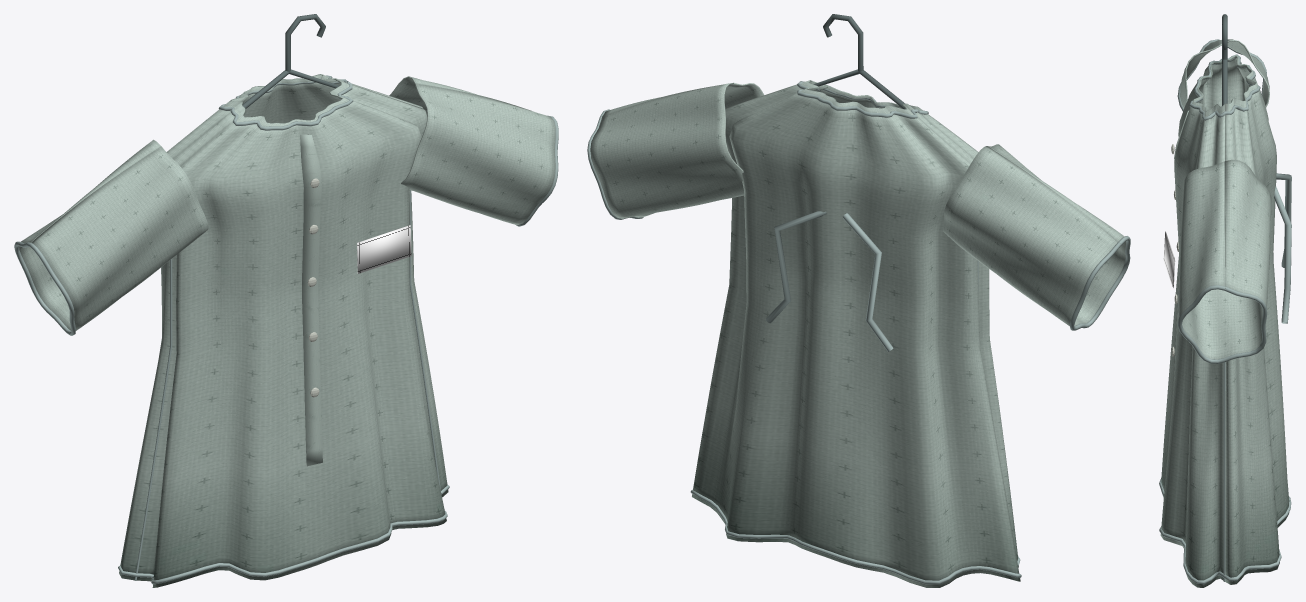
Rendered from haru-hanging-gown.glb.
The picture shows the model from 3 angles, left to right: view 1: azimuth 30°, elevation 25°; view 2: azimuth 150°, elevation 25°; view 3: azimuth 270°, elevation 25°; orthographic projection. The views are drawn at different scales.
Visible parts, largest first — view 1: Haru hanging hospital gown; view 2: Haru hanging hospital gown; view 3: Haru hanging hospital gown.
Part boxes in pixels (box(x1,y1,x2,y2)): Haru hanging hospital gown: box(14, 14, 558, 587); Haru hanging hospital gown: box(587, 14, 1130, 587); Haru hanging hospital gown: box(1159, 14, 1291, 587).
Bounding box in the file's own units: 1.03 × 0.99 × 0.2334.
Materials: 5 (2 with a texture image).
